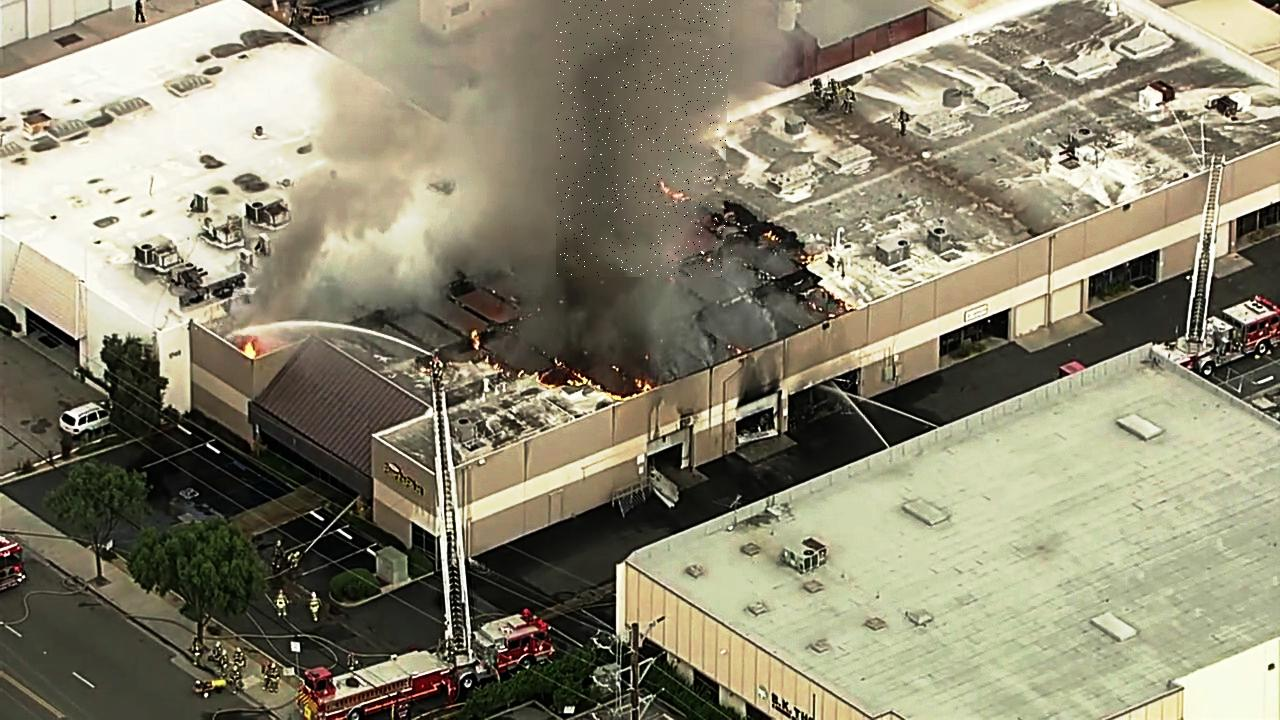smoke: (557, 0, 733, 277)
